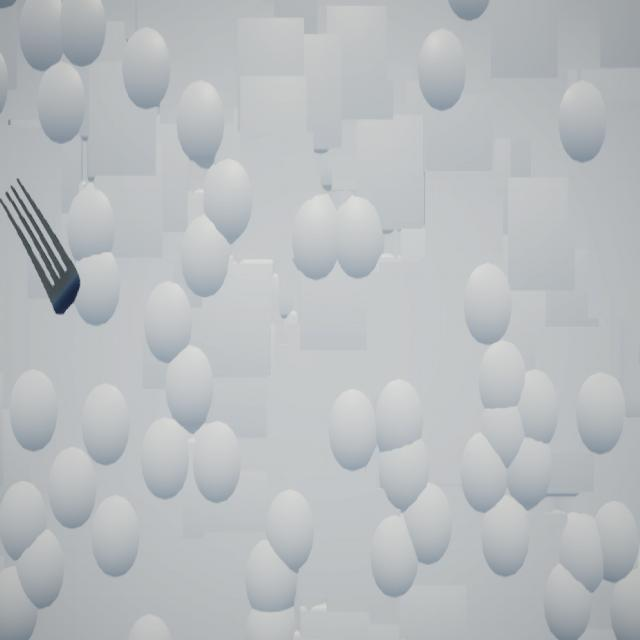top_folk: (1, 179, 82, 316)
